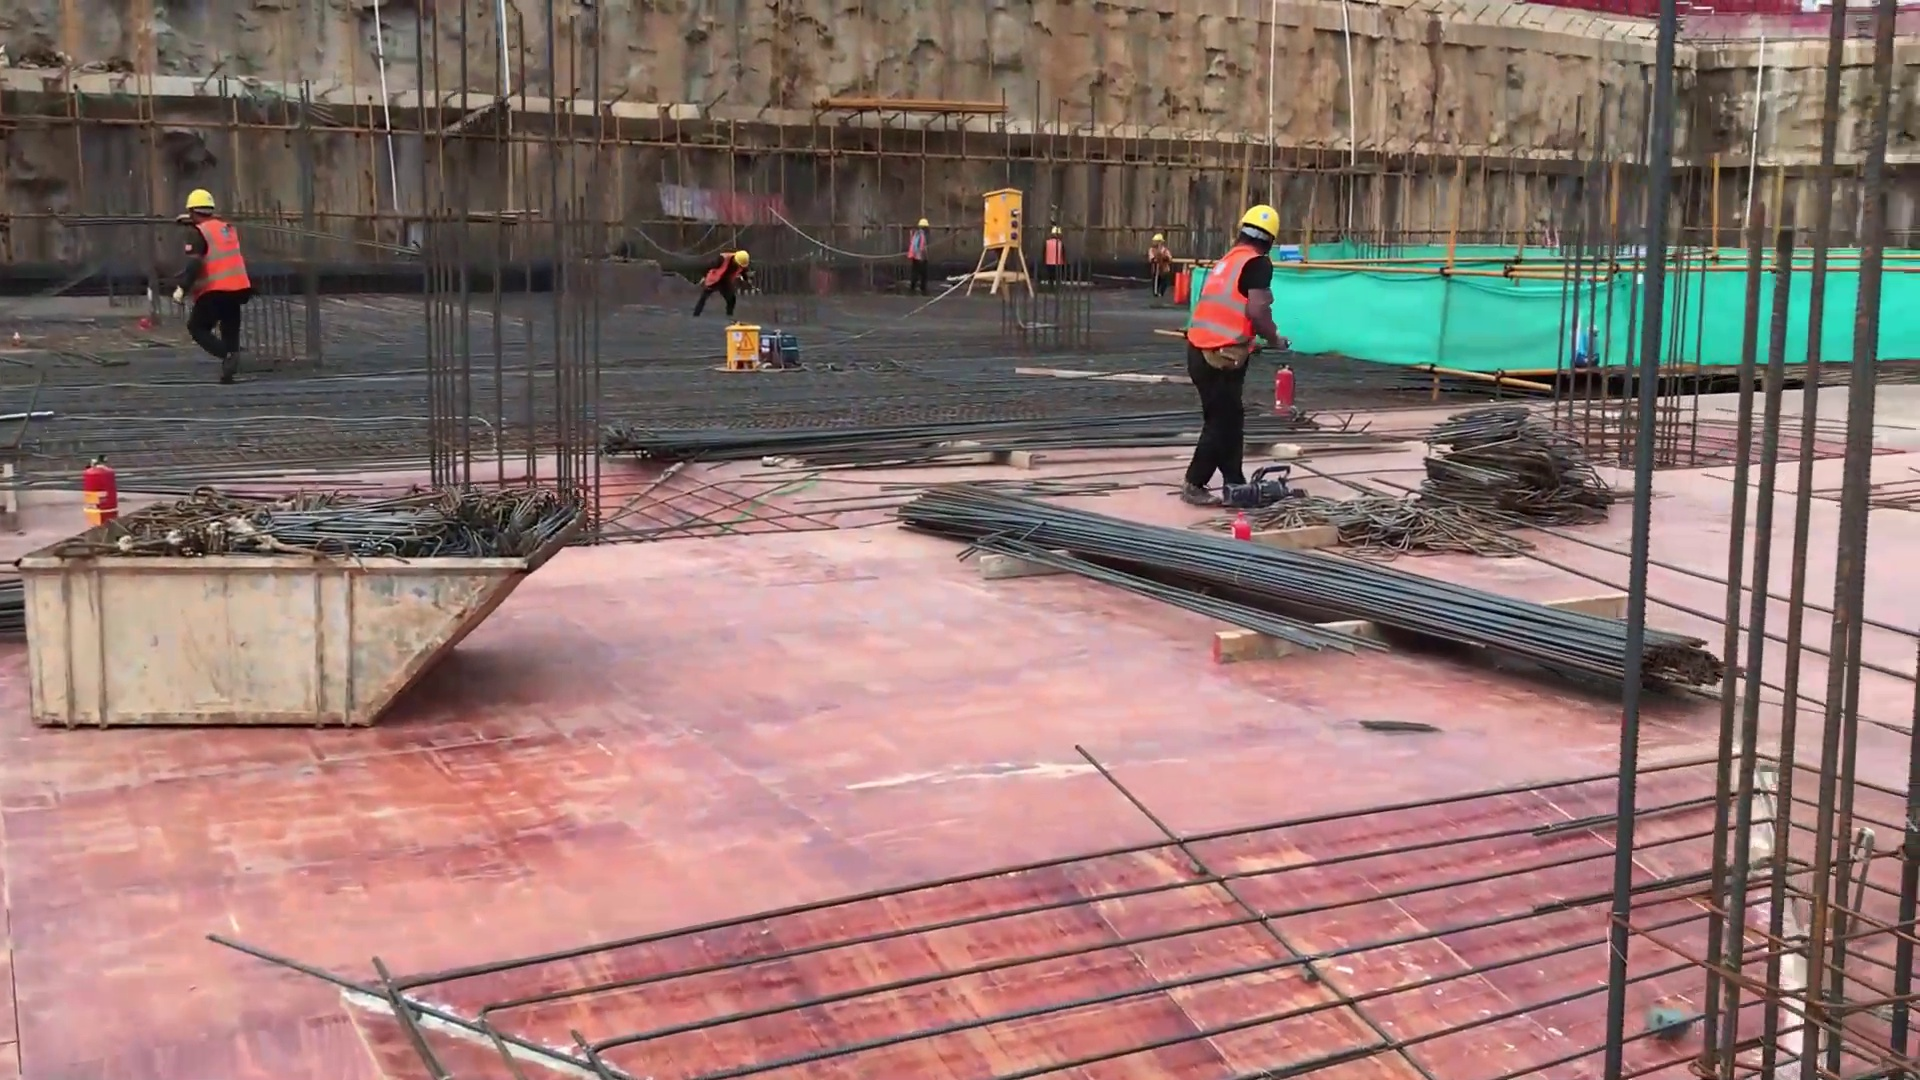ebox: (983, 195, 1029, 265), (731, 323, 766, 363)
helmet: (1241, 197, 1282, 236), (186, 187, 218, 213), (736, 248, 751, 266), (1049, 224, 1064, 237), (918, 215, 934, 228), (1153, 229, 1167, 243)
hopper: (30, 469, 560, 804)
person: (1181, 200, 1274, 505), (186, 181, 254, 381), (689, 238, 751, 311), (904, 201, 941, 298), (1143, 230, 1186, 305), (1041, 218, 1063, 295)
rebar: (1273, 534, 1698, 701), (603, 396, 1340, 463), (900, 483, 1199, 582)
vest: (1190, 253, 1264, 343), (193, 221, 241, 299), (706, 252, 736, 286), (905, 231, 929, 259), (1046, 234, 1066, 265), (1152, 248, 1174, 275)
